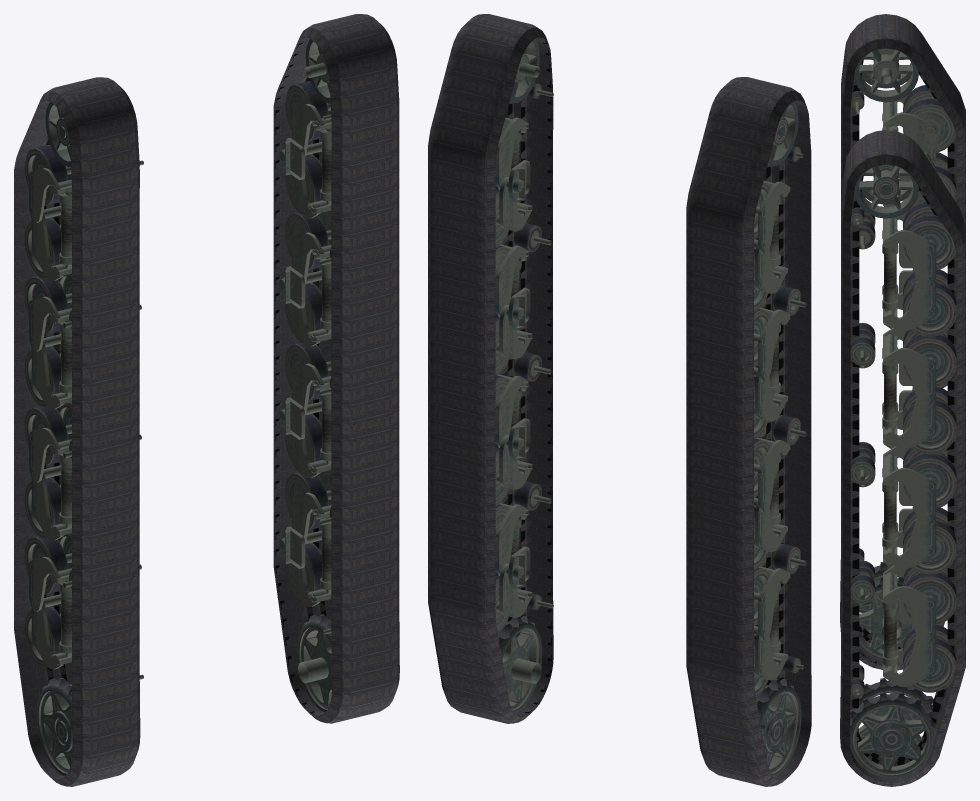
Rendered from Chassis.glb.
The picture shows the model from 3 angles, left to right: view 1: azimuth 30°, elevation 25°; view 2: azimuth 150°, elevation 25°; view 3: azimuth 270°, elevation 25°; orthographic projection. The views are drawn at different scales.
Parts seen in each view (by area): view 1: set_0_group_0, set_1_group_0, set_3_group_0, set_5_group_0, set_4_group_0, set_2_group_0; view 2: set_1_group_0, set_0_group_0, set_3_group_0, set_5_group_0, set_4_group_0, set_2_group_0; view 3: set_3_group_0, set_0_group_0, set_5_group_0, set_2_group_0, set_1_group_0.
Boxes of the visible parts, left/top/right/bottom form: set_0_group_0: left=273, top=14, right=399, bottom=723; set_1_group_0: left=14, top=77, right=140, bottom=786; set_3_group_0: left=279, top=39, right=331, bottom=712; set_5_group_0: left=24, top=102, right=143, bottom=776; set_4_group_0: left=29, top=293, right=71, bottom=540; set_2_group_0: left=288, top=230, right=331, bottom=477; set_1_group_0: left=686, top=77, right=811, bottom=786; set_0_group_0: left=428, top=14, right=553, bottom=723; set_3_group_0: left=495, top=39, right=553, bottom=713; set_5_group_0: left=754, top=102, right=806, bottom=776; set_4_group_0: left=754, top=307, right=790, bottom=551; set_2_group_0: left=495, top=244, right=532, bottom=489; set_3_group_0: left=849, top=164, right=956, bottom=778; set_0_group_0: left=840, top=130, right=965, bottom=786; set_5_group_0: left=851, top=48, right=956, bottom=660; set_2_group_0: left=882, top=327, right=936, bottom=568; set_1_group_0: left=840, top=14, right=965, bottom=670.
Size of the model in its own units: 3.3 by 6.65 by 1.19.
Materials: 6 (6 with a texture image).
